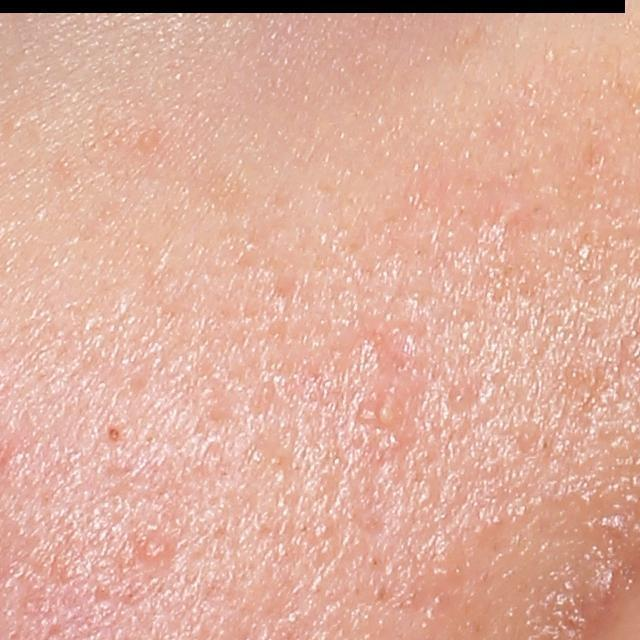comedo: (135, 129, 161, 153), (104, 424, 122, 443)
pustule: (356, 383, 412, 439)
